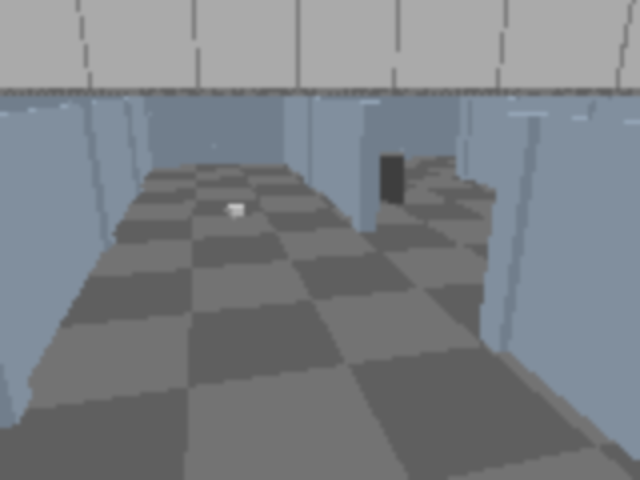obstacle: (375, 150, 406, 203)
puck: (226, 204, 244, 219)
